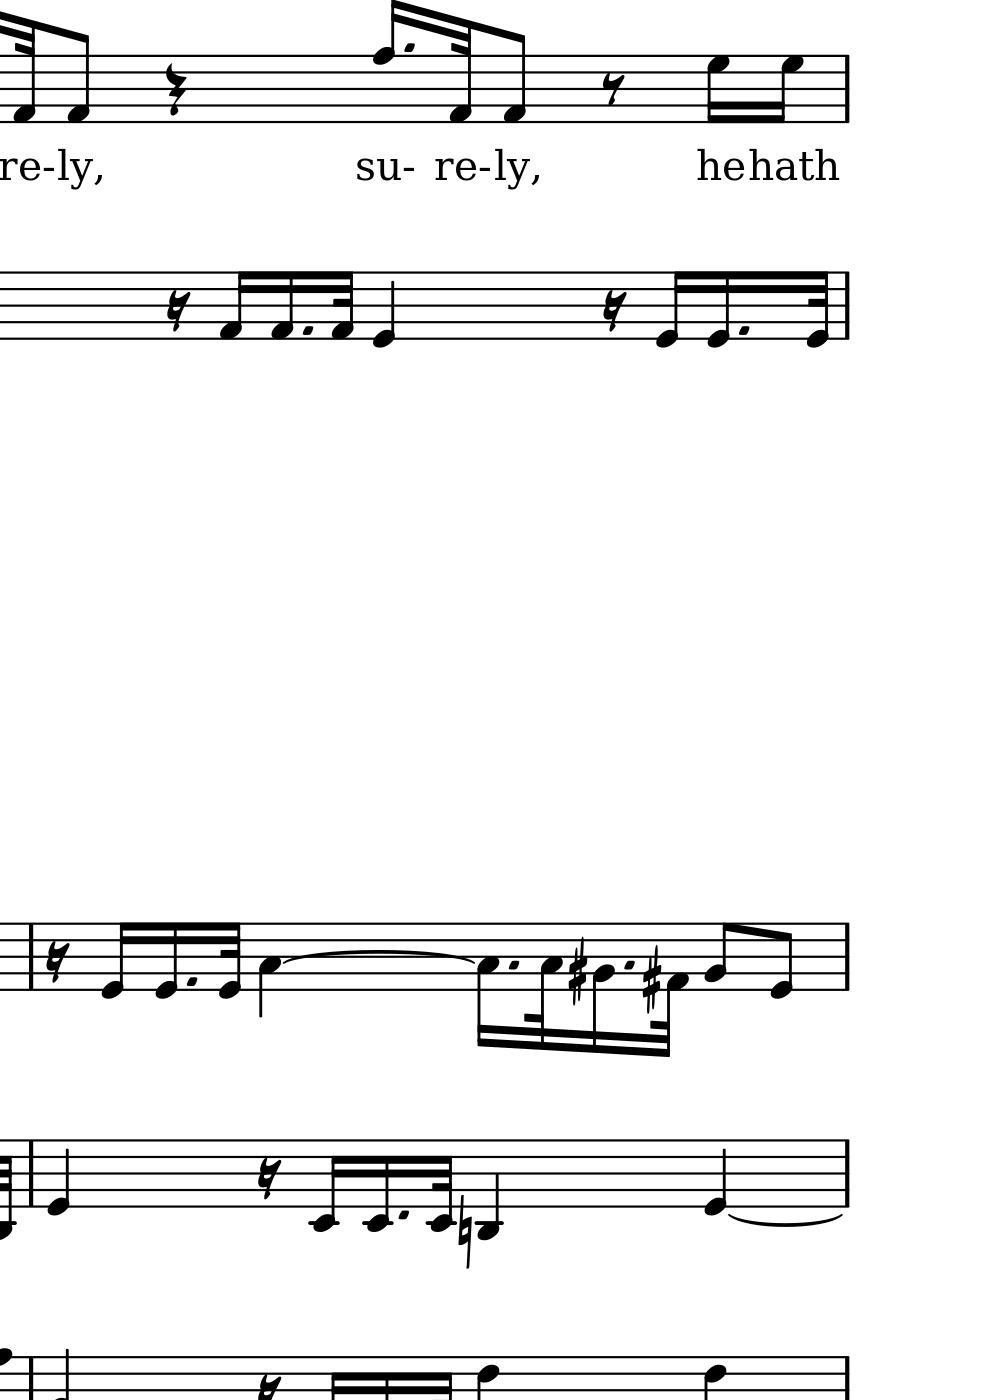16_-2: (310, 1136, 345, 1234), (362, 1138, 391, 1234)
16_0: (97, 920, 134, 1002), (652, 270, 689, 350), (154, 919, 180, 1000), (705, 269, 731, 349)
16_1: (217, 268, 253, 344), (268, 268, 296, 343)
16_2: (590, 921, 616, 1058)
16_3: (475, 920, 501, 1051)
16_7: (769, 54, 802, 127), (704, 52, 730, 127)
16_8: (369, 1, 403, 127)
32_-2: (426, 1136, 454, 1235)
32_0: (216, 920, 243, 1000), (805, 270, 830, 350)
32_1: (655, 919, 690, 1062), (447, 15, 474, 127), (12, 17, 36, 126), (328, 269, 357, 343)
32_3: (524, 919, 562, 1054)
4_-3: (475, 1135, 502, 1243)
4_0: (701, 1138, 729, 1218), (370, 271, 397, 350), (45, 1138, 72, 1217)
4_3: (257, 920, 282, 1020)
8_0: (767, 922, 795, 1002)
8_1: (64, 30, 91, 126), (500, 31, 527, 125)
8_2: (703, 922, 734, 992)
Natural: (455, 1193, 474, 1273)
Rests16: (255, 1156, 282, 1203), (601, 288, 628, 334), (165, 288, 191, 334), (44, 940, 70, 984)
Rests4: (163, 61, 187, 118)
Rests8: (600, 71, 625, 106)
Sharp: (640, 944, 662, 1015), (567, 934, 588, 1007)
Single_barline: (837, 55, 857, 124), (837, 271, 857, 338), (837, 1140, 856, 1208), (21, 1141, 41, 1207), (838, 923, 855, 990), (22, 924, 40, 989)
Slur: (281, 948, 472, 970), (725, 1211, 843, 1228)
dot: (402, 37, 418, 54), (299, 323, 316, 338), (505, 958, 521, 973), (395, 1208, 411, 1223), (621, 958, 636, 972), (736, 323, 750, 337)
